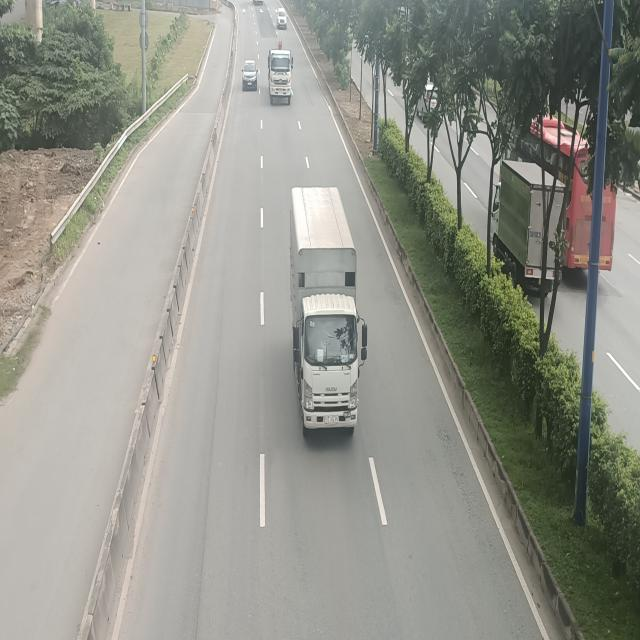car: (242, 59, 259, 92)
truck: (286, 187, 366, 437), (268, 50, 294, 107)
